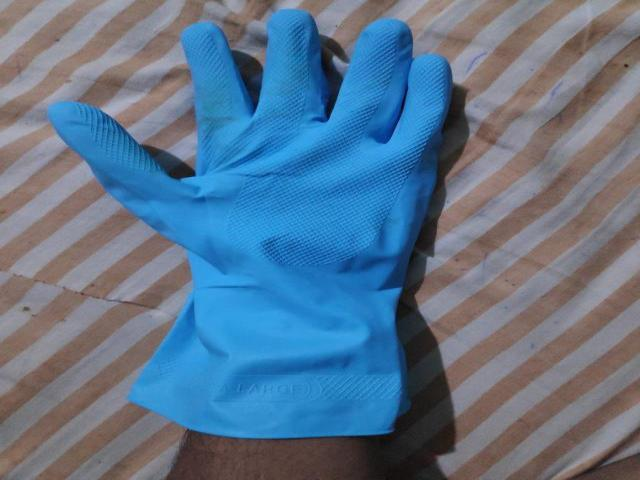Hand-in-Glove: (46, 7, 457, 440)
